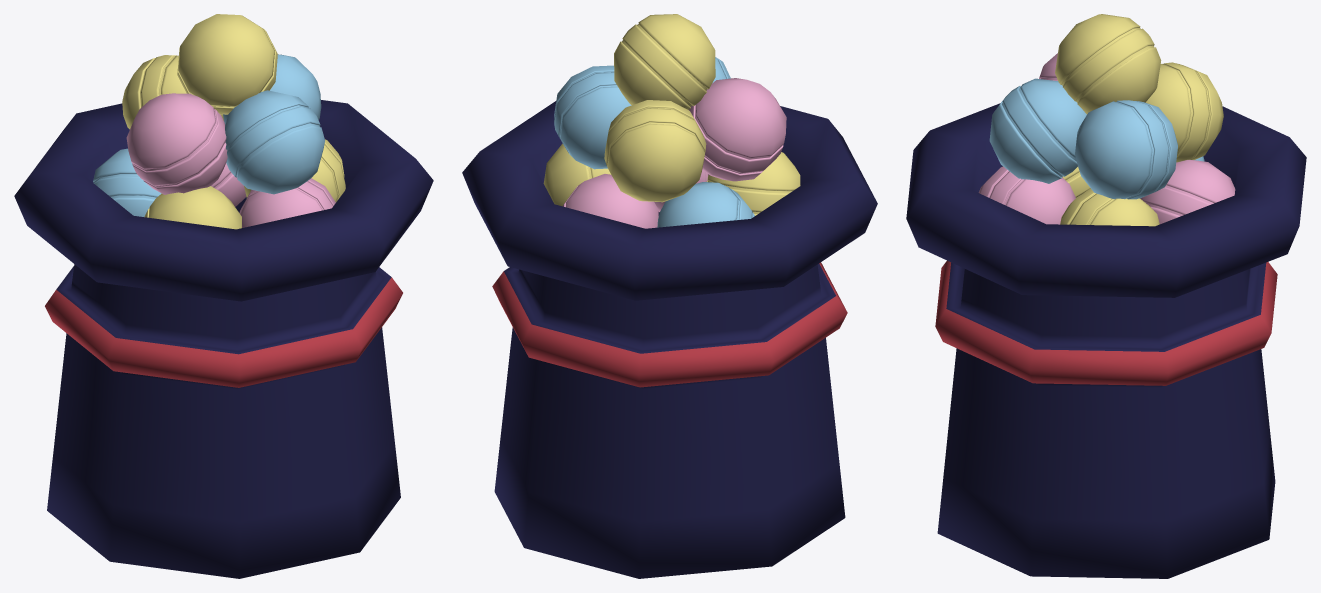
Rendered from juggleballs.fbx.
3 views of the same model, side by side, from view 1: azimuth 30°, elevation 25°; view 2: azimuth 150°, elevation 25°; view 3: azimuth 270°, elevation 25° (orthographic).
Visible parts, largest first — view 1: 圆柱_2, 球体_2_0_2, 球体_1_1_2, 球体_8, 球体_1_1, 球体_2_0, 球体_2_2, 球体_2_3_2, 球体_2_3_3, 球体_1_4, 球体_2_3; view 2: 圆柱_2, 球体_2_3_2, 球体_8, 球体_1_1_2, 球体_2_3_3, 球体_2_2, 球体_2_3, 球体_1_1, 球体_1_4; view 3: 圆柱_2, 球体_2_3_3, 球体_8, 球体_2_0_2, 球体_2_3_2, 球体_2_3, 球体_2_0, 球体_1_4.
Boxes of the visible parts, bbox=[...] form: 圆柱_2: bbox=[14, 100, 433, 578]; 球体_2_0_2: bbox=[225, 90, 324, 194]; 球体_1_1_2: bbox=[126, 93, 227, 194]; 球体_8: bbox=[177, 14, 277, 114]; 球体_1_1: bbox=[144, 186, 241, 229]; 球体_2_0: bbox=[239, 178, 335, 227]; 球体_2_2: bbox=[93, 148, 161, 216]; 球体_2_3_2: bbox=[122, 55, 223, 129]; 球体_2_3_3: bbox=[223, 54, 321, 124]; 球体_1_4: bbox=[244, 139, 345, 202]; 球体_2_3: bbox=[211, 163, 246, 206]; 圆柱_2: bbox=[462, 101, 877, 578]; 球体_2_3_2: bbox=[604, 100, 706, 202]; 球体_8: bbox=[614, 14, 715, 109]; 球体_1_1_2: bbox=[689, 78, 786, 181]; 球体_2_3_3: bbox=[554, 65, 631, 169]; 球体_2_2: bbox=[657, 182, 754, 227]; 球体_2_3: bbox=[562, 174, 658, 228]; 球体_1_1: bbox=[706, 152, 800, 215]; 球体_1_4: bbox=[543, 143, 610, 205]; 圆柱_2: bbox=[906, 103, 1306, 578]; 球体_2_3_3: bbox=[1075, 100, 1177, 199]; 球体_8: bbox=[1055, 14, 1161, 114]; 球体_2_0_2: bbox=[989, 78, 1086, 183]; 球体_2_3_2: bbox=[1146, 62, 1223, 162]; 球体_2_3: bbox=[1140, 160, 1235, 224]; 球体_2_0: bbox=[978, 166, 1075, 224]; 球体_1_4: bbox=[1060, 188, 1159, 226].
Size of the model in its own units: 16.65 by 16.65 by 22.46.
